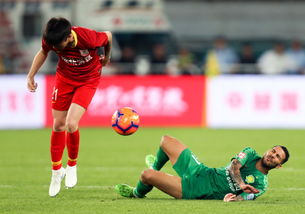10+: (1, 10, 303, 205)
down: (110, 126, 294, 206)
